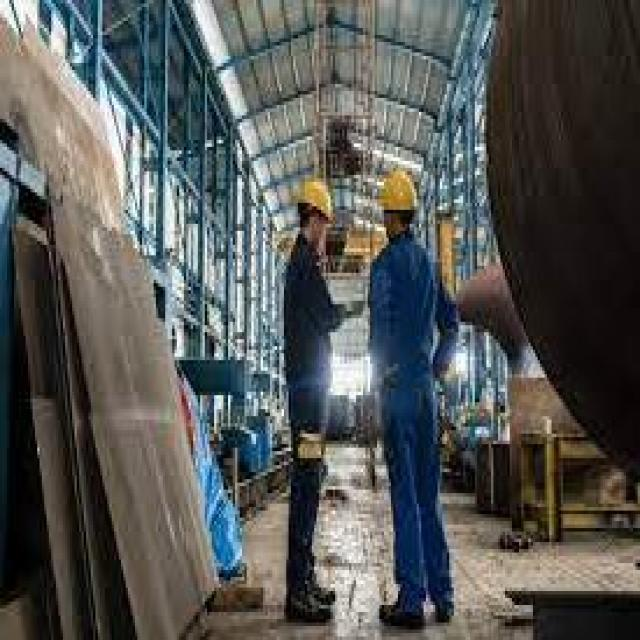Reflective-Jacket: (358, 234, 447, 409)
Safety-Helmet: (370, 158, 426, 228), (288, 168, 339, 234)
